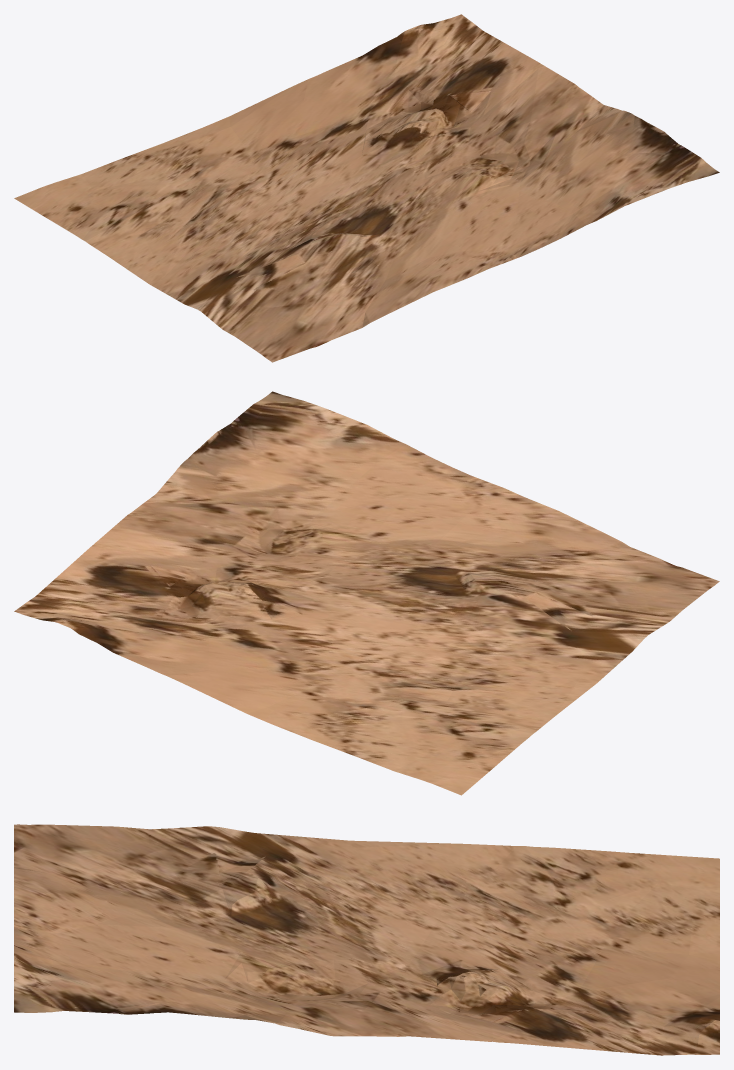
The picture shows the model from 3 angles, top to bottom: view 1: azimuth 30°, elevation 25°; view 2: azimuth 150°, elevation 25°; view 3: azimuth 270°, elevation 25°; orthographic projection. The views are drawn at different scales.
Size of the model in its own units: 2.09 by 0.4766 by 2.09.
Materials: 2 (2 with a texture image).
